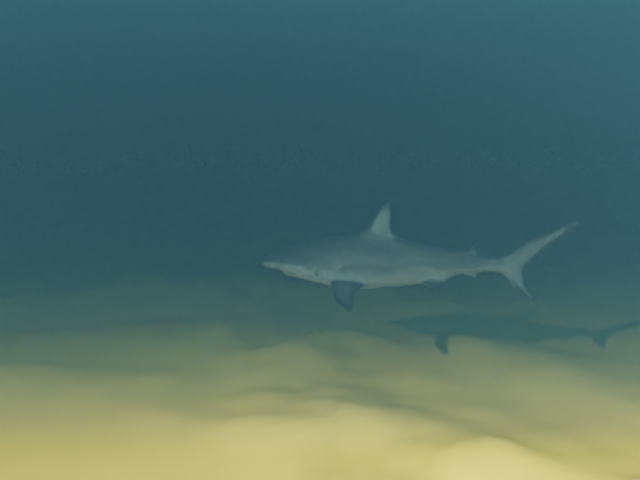Carribean Shark.001: (261, 202, 579, 311)
